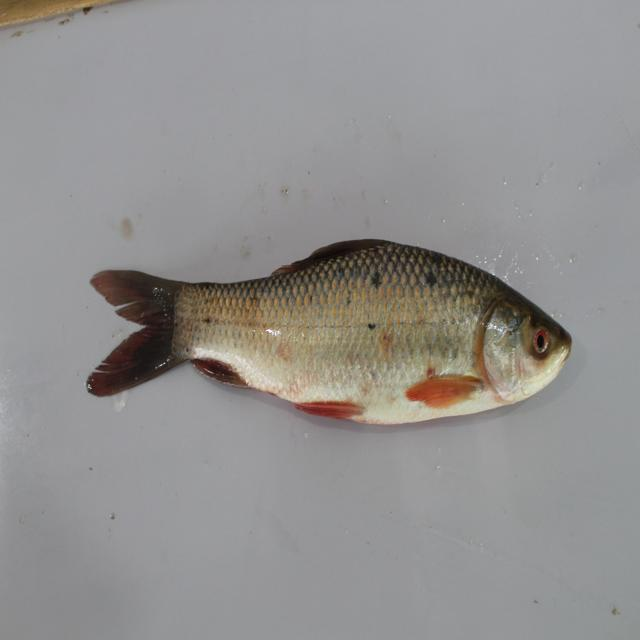Rohu: (77, 227, 583, 431)
